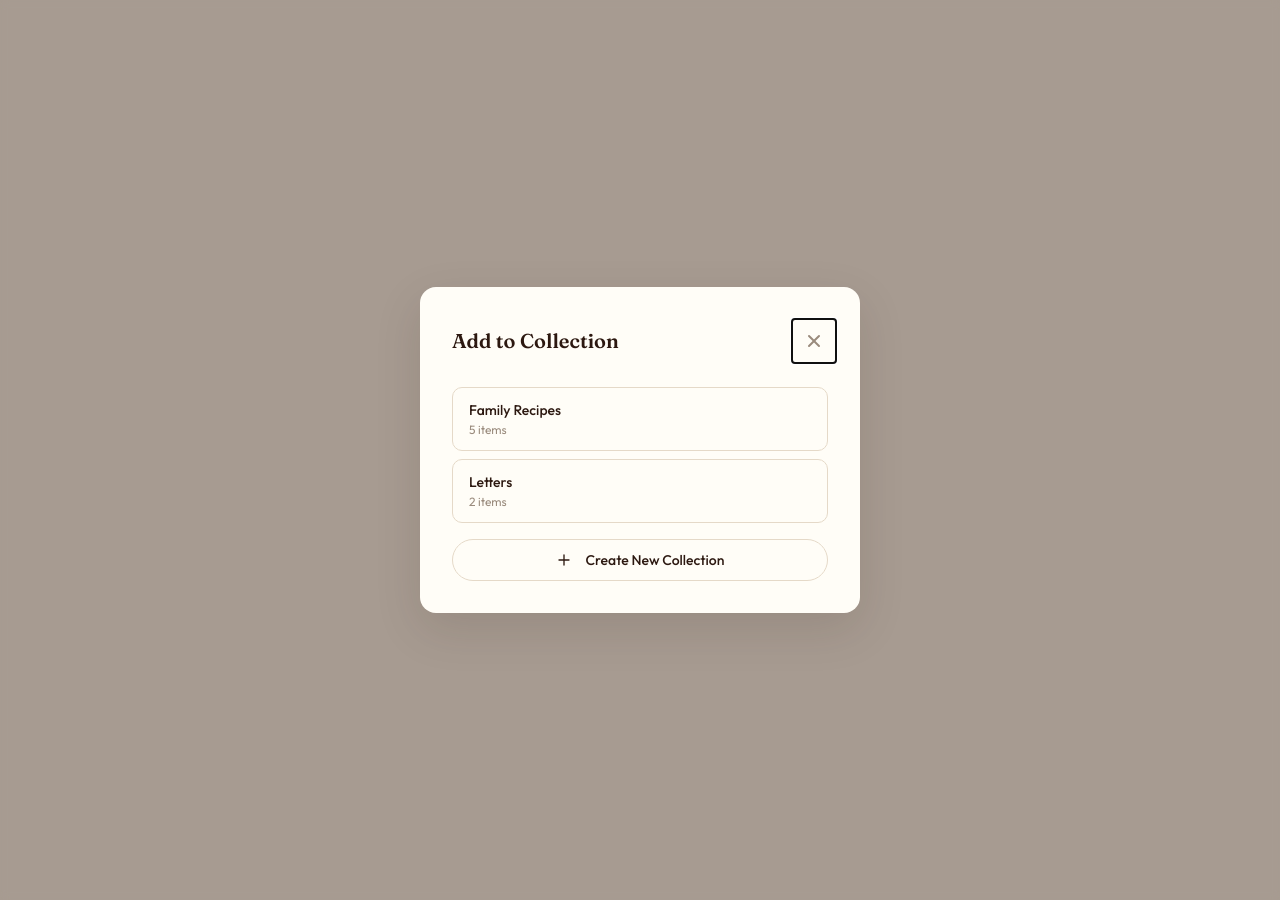
Test: CollectionPickerModal › enables Create & Add when name is entered
Click the button "Create New Collection" at (640, 560), box [452,539,828,581]
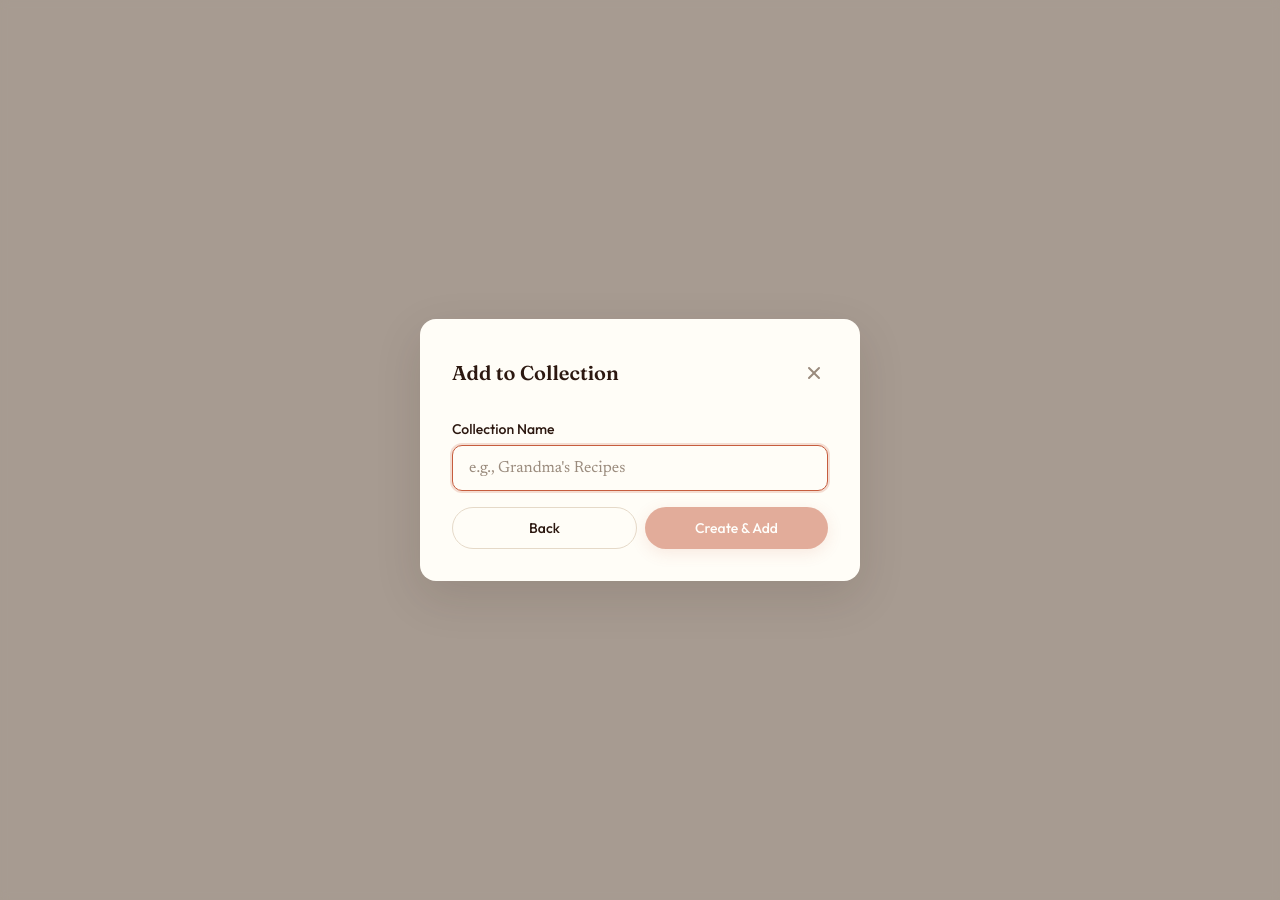
Type "New Collection" into the field labelled "Collection Name" at (640, 468), box [452,445,828,491]
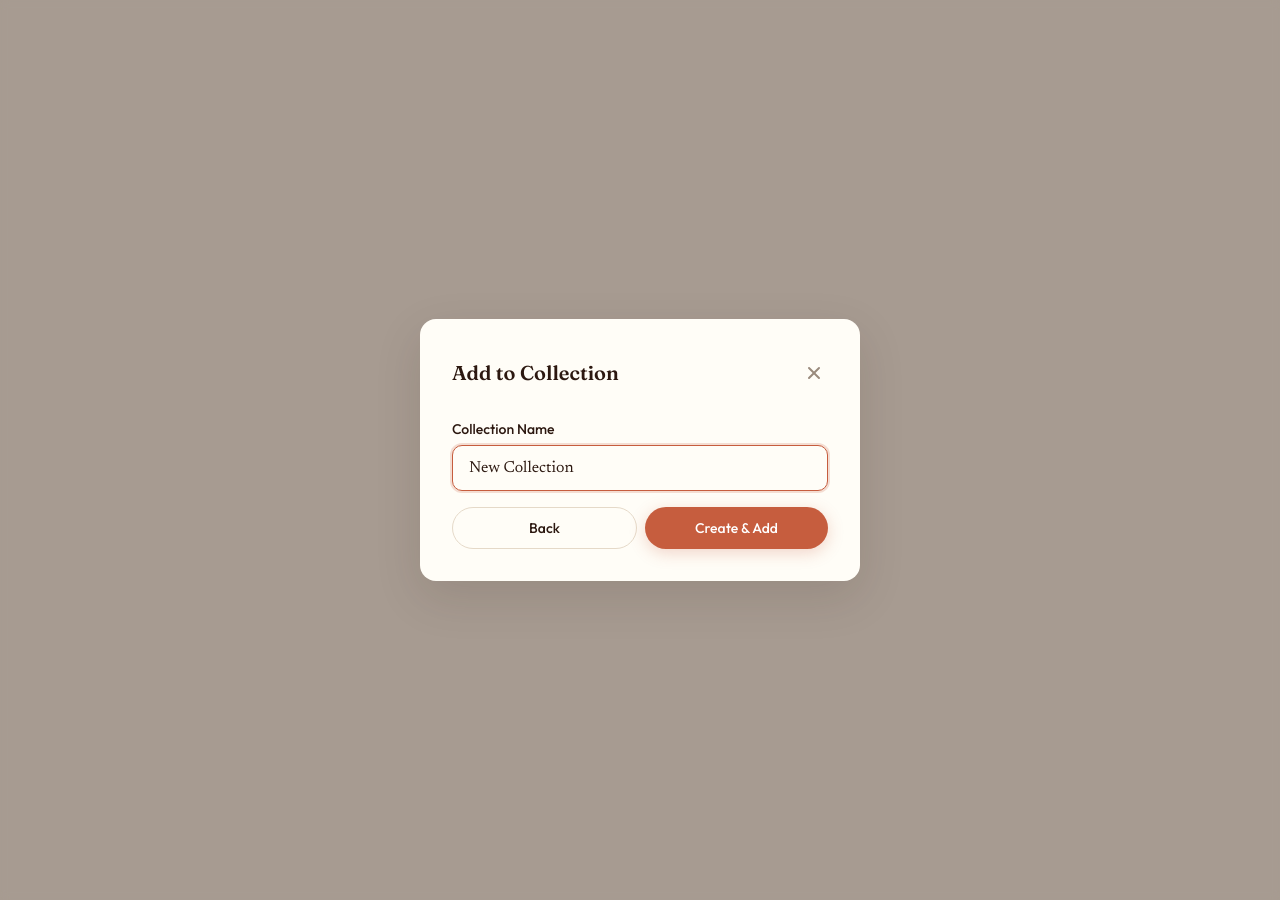
Expected: the button "Create & Add" is enabled, [645,507,828,549]
